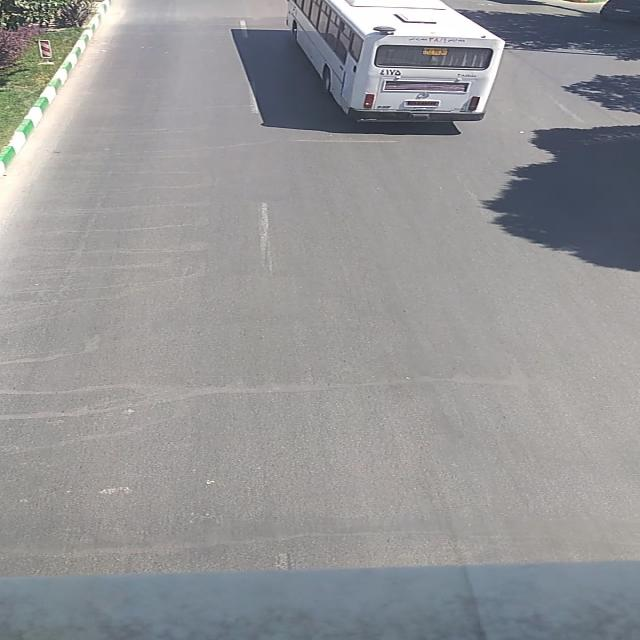bus: (285, 0, 507, 124)
